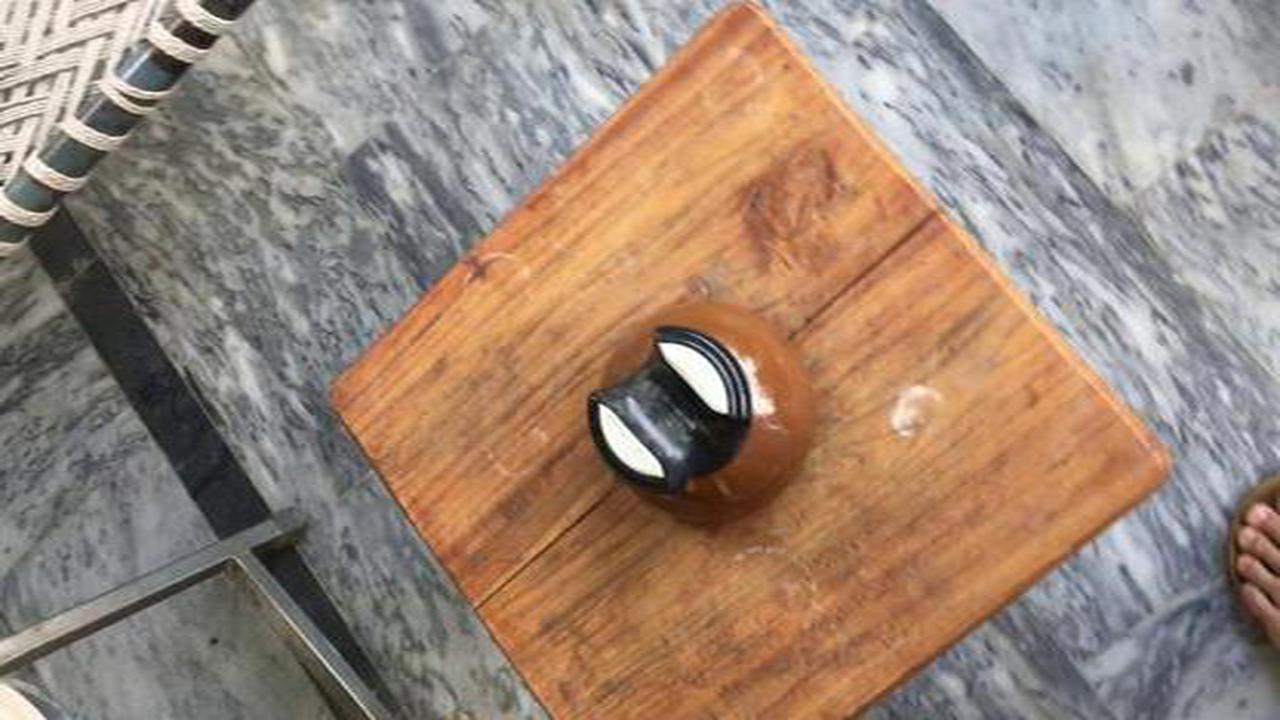insulator_pin: (554, 288, 828, 541)
